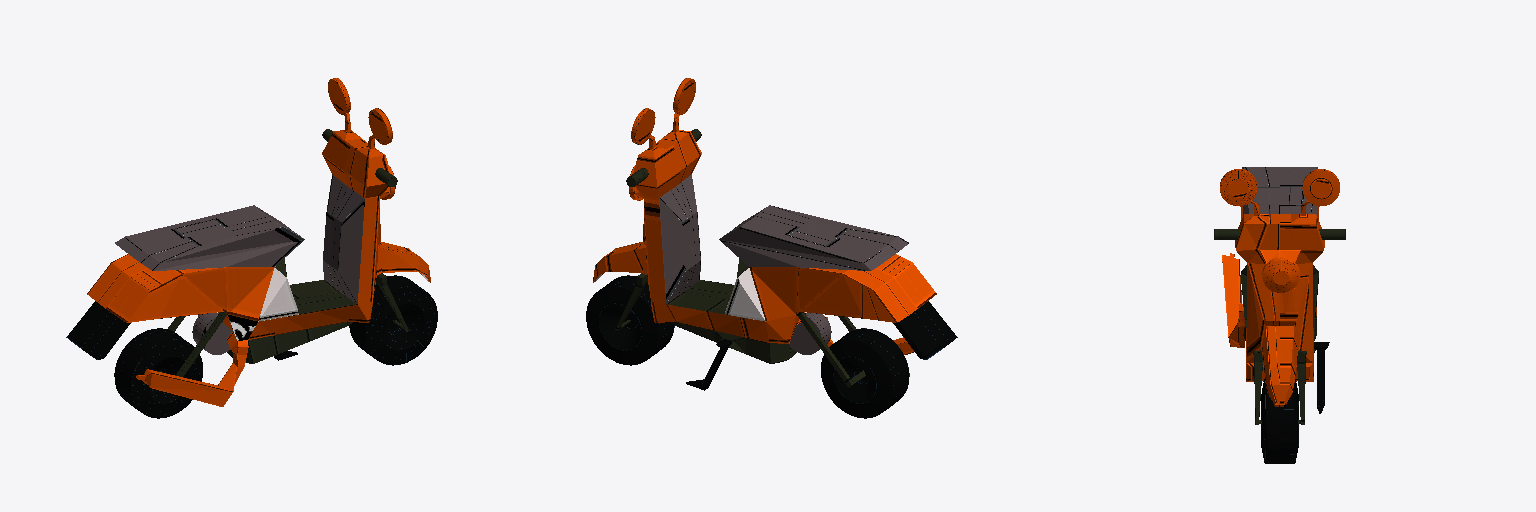
3 renders of one model, left to right at view 1: azimuth 30°, elevation 25°; view 2: azimuth 150°, elevation 25°; view 3: azimuth 270°, elevation 25°, orthographic.
Parts seen in each view (by area): view 1: Plane; view 2: Plane; view 3: Plane.
Boxes of the visible parts, box(x1,y1,x2,y2) form: Plane: box(66, 78, 437, 418); Plane: box(586, 78, 957, 418); Plane: box(1214, 167, 1345, 463).
Bounding box in the file's own units: 3.17 × 2.37 × 1.03.
Materials: 1 (1 with a texture image).